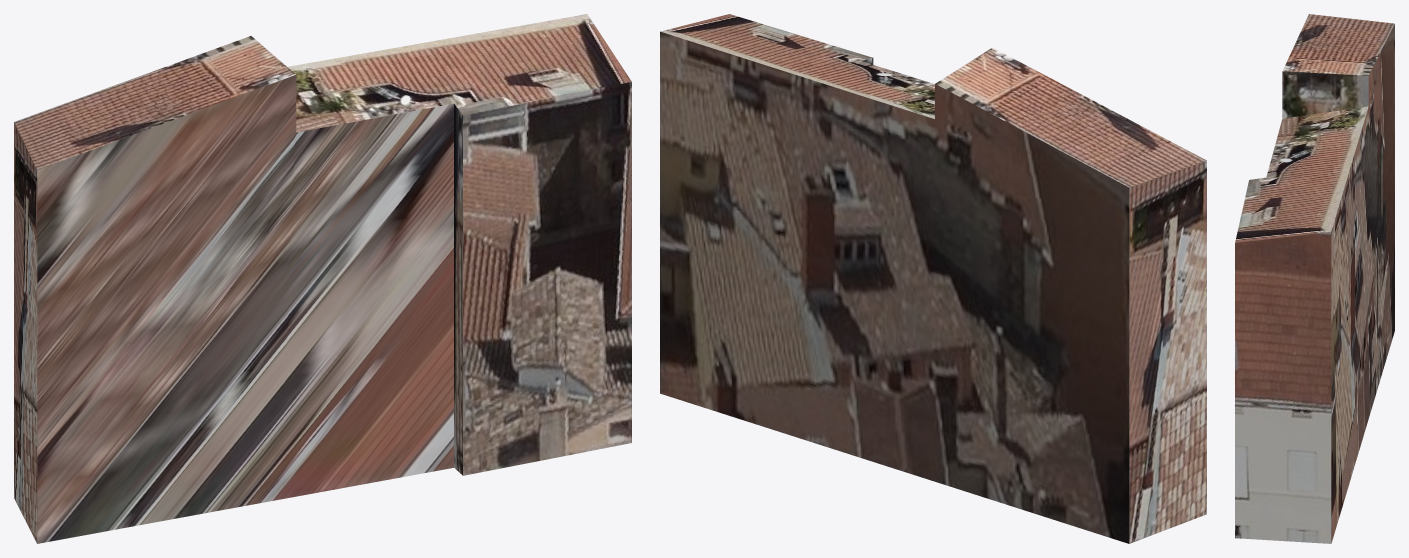
The picture shows the model from 3 angles, left to right: view 1: azimuth 30°, elevation 25°; view 2: azimuth 150°, elevation 25°; view 3: azimuth 270°, elevation 25°; orthographic projection. The views are drawn at different scales.
Parts seen in each view (by area): view 1: Z_UP; view 2: Z_UP; view 3: Z_UP.
Boxes of the visible parts, x1,y1,x2,y2 form: Z_UP: [14, 14, 631, 543]; Z_UP: [660, 14, 1206, 543]; Z_UP: [1235, 14, 1394, 543].
Size of the model in its own units: 23.97 by 17.14 by 7.21.
Materials: 2 (1 with a texture image).
